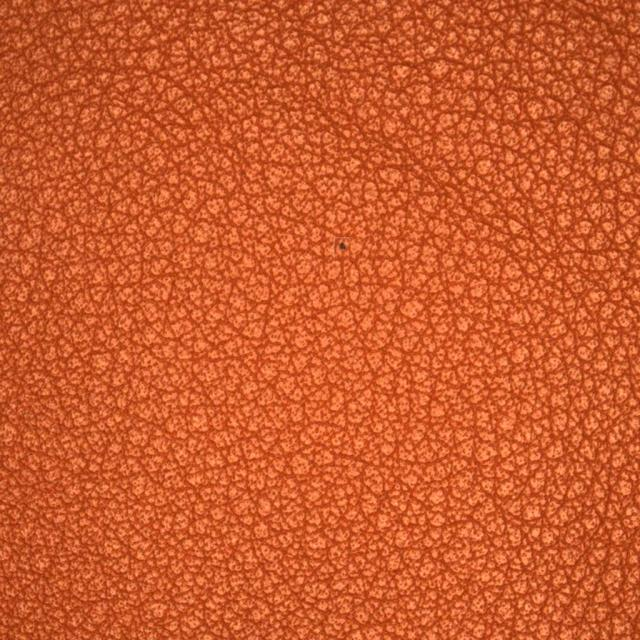pinhole: (277, 175, 415, 319)
